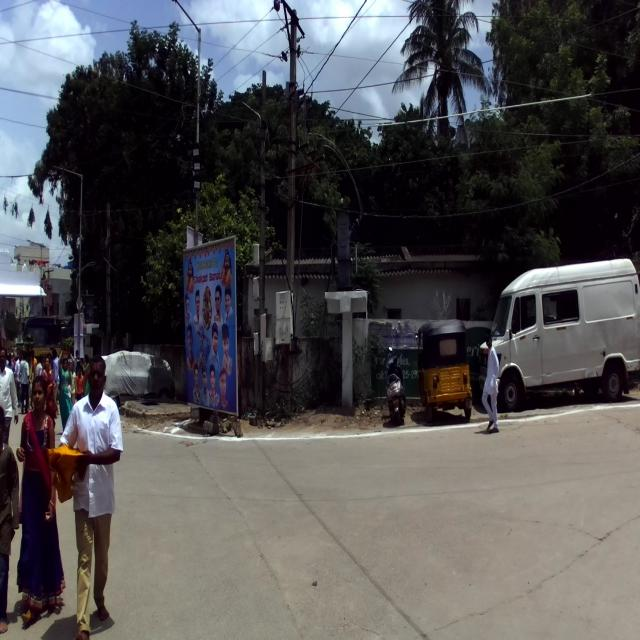Car: (103, 350, 175, 408)
autorickshaw: (414, 317, 472, 420)
mini-bus: (478, 258, 640, 412)
scooter: (383, 344, 407, 425)
